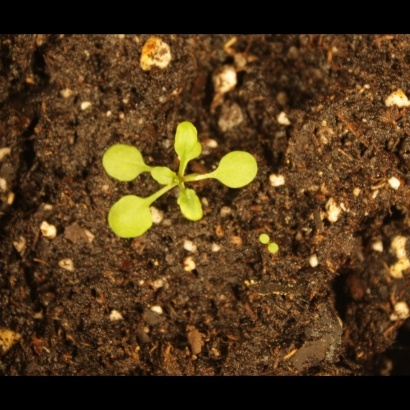leaf: (103, 192, 159, 241), (211, 147, 263, 197), (97, 141, 151, 184), (173, 182, 208, 226), (172, 115, 200, 163), (147, 161, 180, 186), (184, 140, 207, 163)
